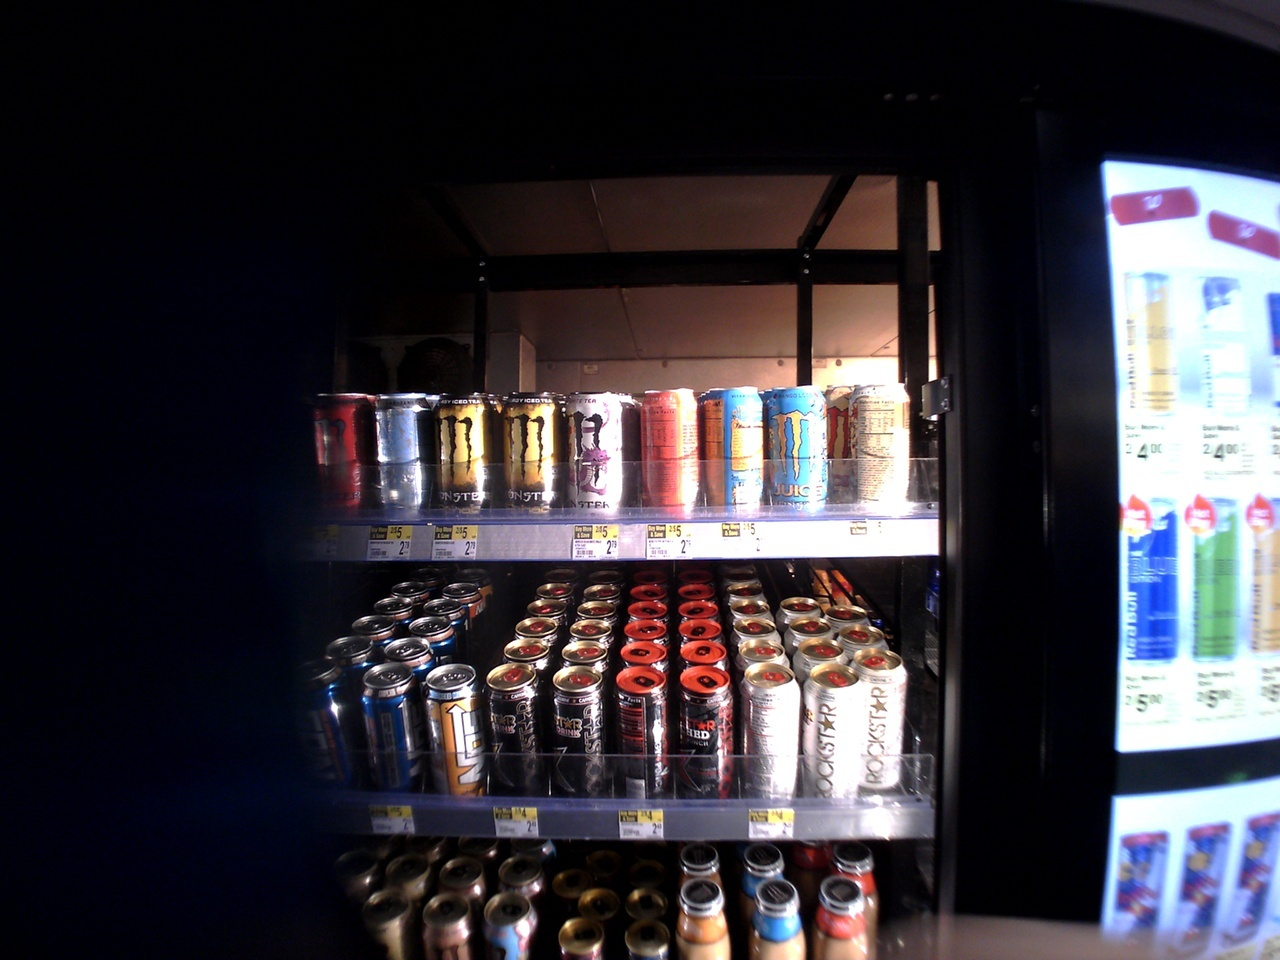shelf: (266, 559, 950, 837), (305, 338, 928, 547), (268, 842, 944, 960)
